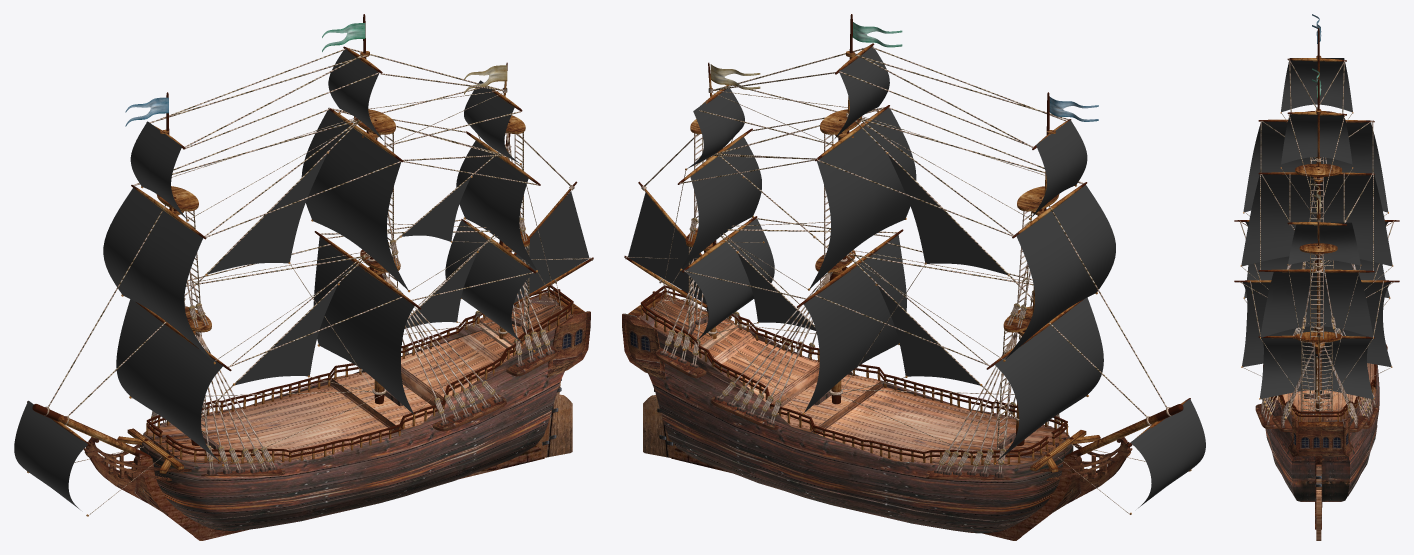
3 views of the same model, side by side, from view 1: azimuth 30°, elevation 25°; view 2: azimuth 150°, elevation 25°; view 3: azimuth 270°, elevation 25° (orthographic). The views are drawn at different scales.
Visible parts, largest first — view 1: NODE11_1, NODE1_5, NODE1_1, NODE0_2, NODE10_1, NODE0_1, NODE9, NODE9_1, NODE, NODE8, NODE_2, NODE1_3 (+4 smaller); view 2: NODE11_1, NODE1_5, NODE1_1, NODE0_2, NODE10_1, NODE0_1, NODE9, NODE8, NODE, NODE9_1, NODE1_3, NODE_2 (+3 smaller); view 3: NODE11_1, NODE0_2, NODE0_1, NODE1_5, NODE1_2, NODE1_1, NODE1_3, NODE8, NODE_2, NODE9_1, NODE9, NODE0_3 (+6 smaller).
Part boxes in pixels (x1,y1,x2,y2): NODE11_1: (14, 48, 589, 509); NODE1_5: (139, 295, 564, 530); NODE1_1: (144, 294, 574, 464); NODE0_2: (44, 47, 592, 514); NODE10_1: (207, 154, 476, 385); NODE0_1: (27, 14, 593, 458); NODE9: (146, 285, 573, 457); NODE9_1: (97, 289, 590, 540); NODE: (117, 286, 573, 473); NODE8: (186, 132, 561, 448); NODE_2: (104, 327, 558, 481); NODE1_3: (89, 313, 586, 514); NODE11_1: (628, 46, 1205, 507); NODE1_5: (640, 301, 1073, 533); NODE1_1: (638, 297, 1068, 466); NODE0_2: (625, 46, 1189, 513); NODE10_1: (738, 155, 1007, 385); NODE0_1: (624, 14, 1190, 457); NODE9: (640, 285, 1068, 458); NODE8: (663, 156, 1030, 452); NODE: (641, 288, 1100, 472); NODE9_1: (622, 291, 1118, 540); NODE1_3: (626, 315, 1126, 514); NODE_2: (655, 327, 1111, 481); NODE11_1: (1241, 58, 1392, 398); NODE0_2: (1239, 59, 1394, 414); NODE0_1: (1234, 28, 1399, 411); NODE1_5: (1262, 365, 1379, 498); NODE1_2: (1292, 456, 1349, 501); NODE1_1: (1274, 363, 1376, 421); NODE1_3: (1290, 419, 1352, 456); NODE8: (1272, 157, 1364, 414); NODE_2: (1255, 344, 1387, 432); NODE9_1: (1288, 417, 1353, 529); NODE9: (1263, 364, 1376, 416); NODE0_3: (1294, 432, 1348, 448).
Size of the model in its own units: 8.55 by 7.12 by 2.79.
17 materials, 16 textured.
